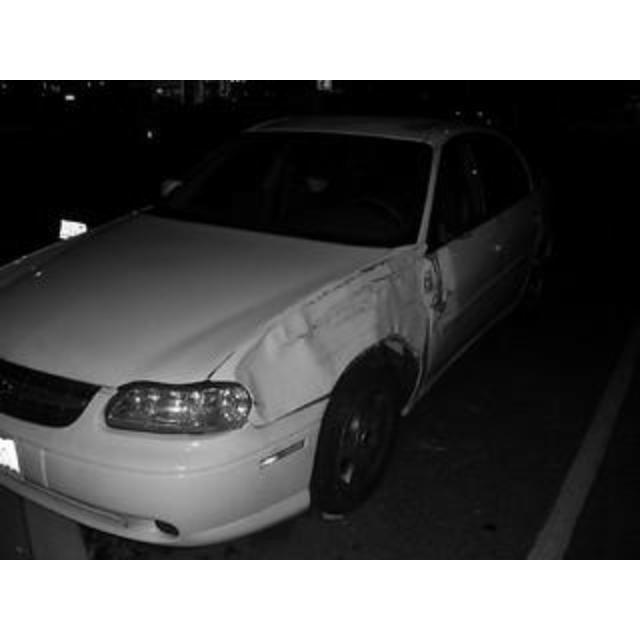fender-dent: (312, 258, 432, 372)
